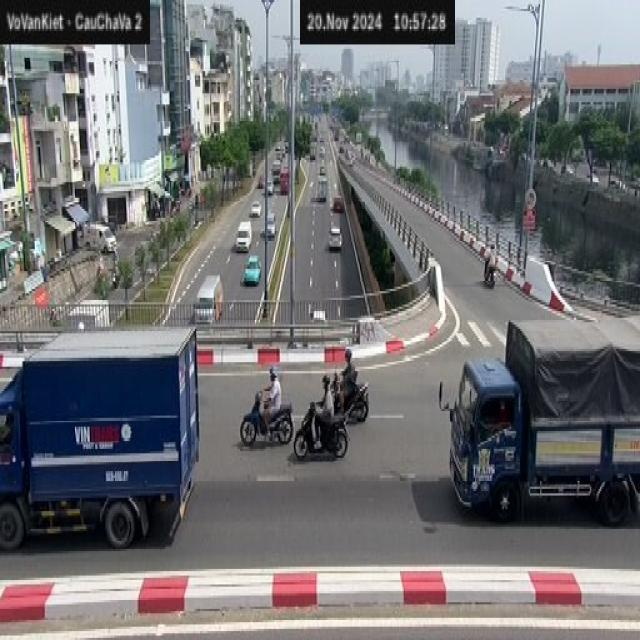car: (194, 271, 226, 329), (235, 218, 254, 252), (243, 255, 262, 288), (328, 220, 343, 253), (250, 198, 262, 220)
motorcycle: (292, 402, 350, 466), (239, 392, 296, 454)
person: (267, 365, 285, 413), (318, 372, 334, 426), (342, 346, 357, 393)
truck: (0, 327, 201, 549), (444, 293, 638, 520)
